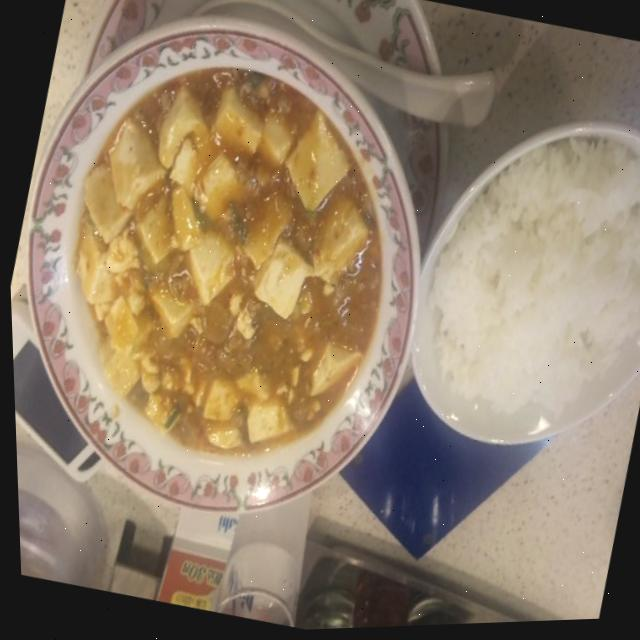米饭主食: (413, 106, 640, 463)
豆腐料理: (0, 0, 438, 557)
